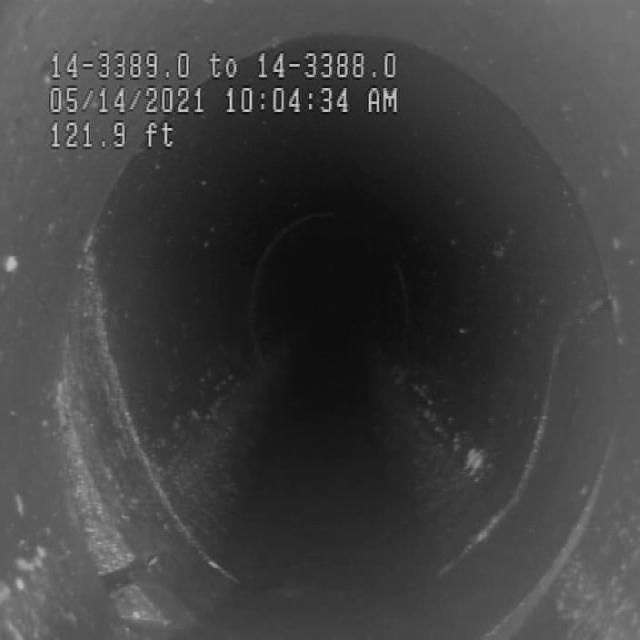Crack: (470, 295, 582, 580)
